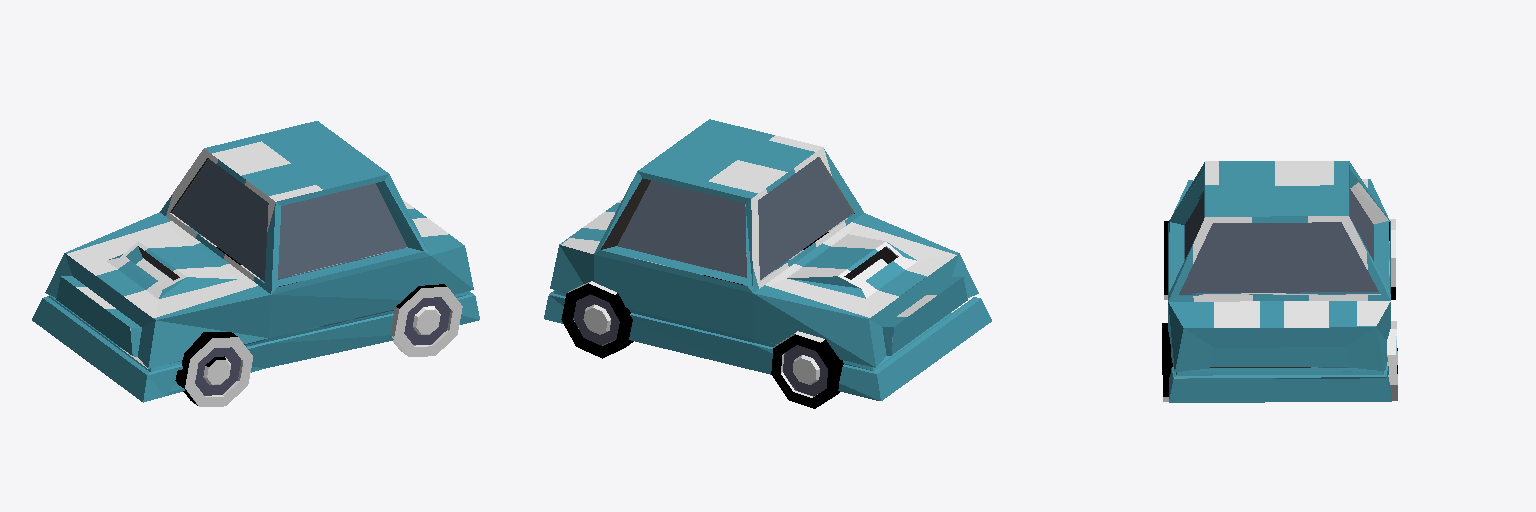
3 views of the same model, side by side, from view 1: azimuth 30°, elevation 25°; view 2: azimuth 150°, elevation 25°; view 3: azimuth 270°, elevation 25° (orthographic).
Visible parts, largest first — view 1: Car-1_Cylinder.002; view 2: Car-1_Cylinder.002; view 3: Car-1_Cylinder.002.
Boxes of the visible parts, box(x1,y1,x2,y2) form: Car-1_Cylinder.002: box(32, 121, 479, 406); Car-1_Cylinder.002: box(544, 119, 991, 408); Car-1_Cylinder.002: box(1162, 161, 1397, 402).
Size of the model in its own units: 0.9306 by 0.4569 by 0.562.
Materials: 5 (1 with a texture image).